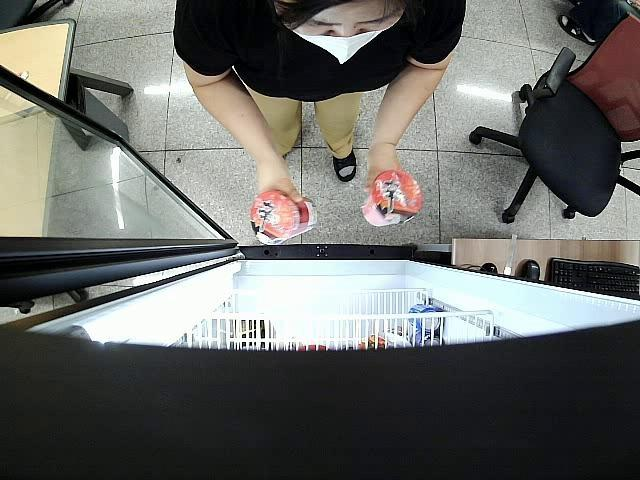02_shinRamen_S: (251, 191, 318, 246), (361, 172, 424, 228)
